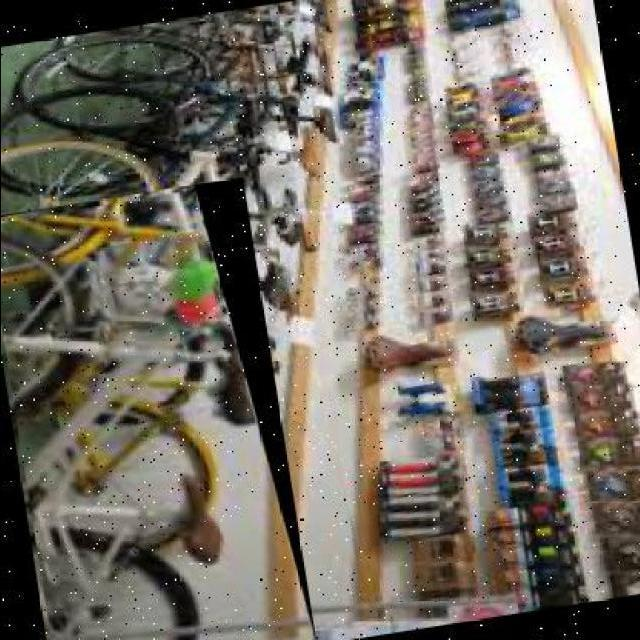bicycle: (2, 177, 318, 640)
